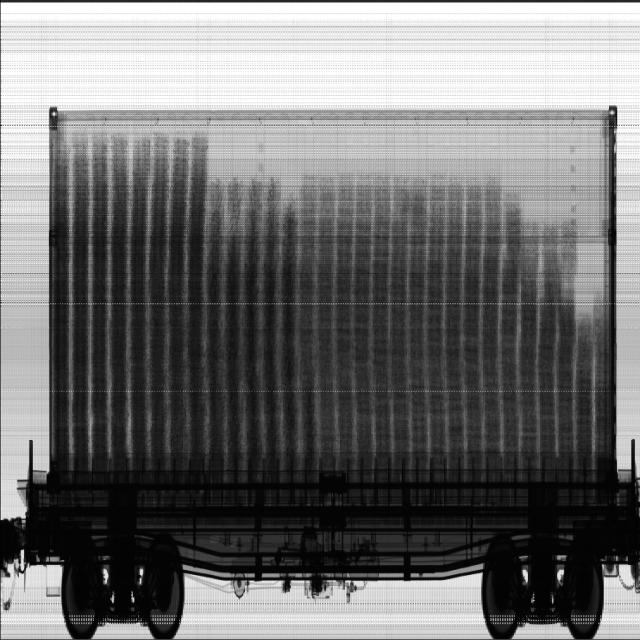textiles: (301, 170, 606, 452)
